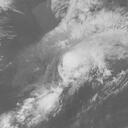cyclone: (59, 47, 91, 83)
